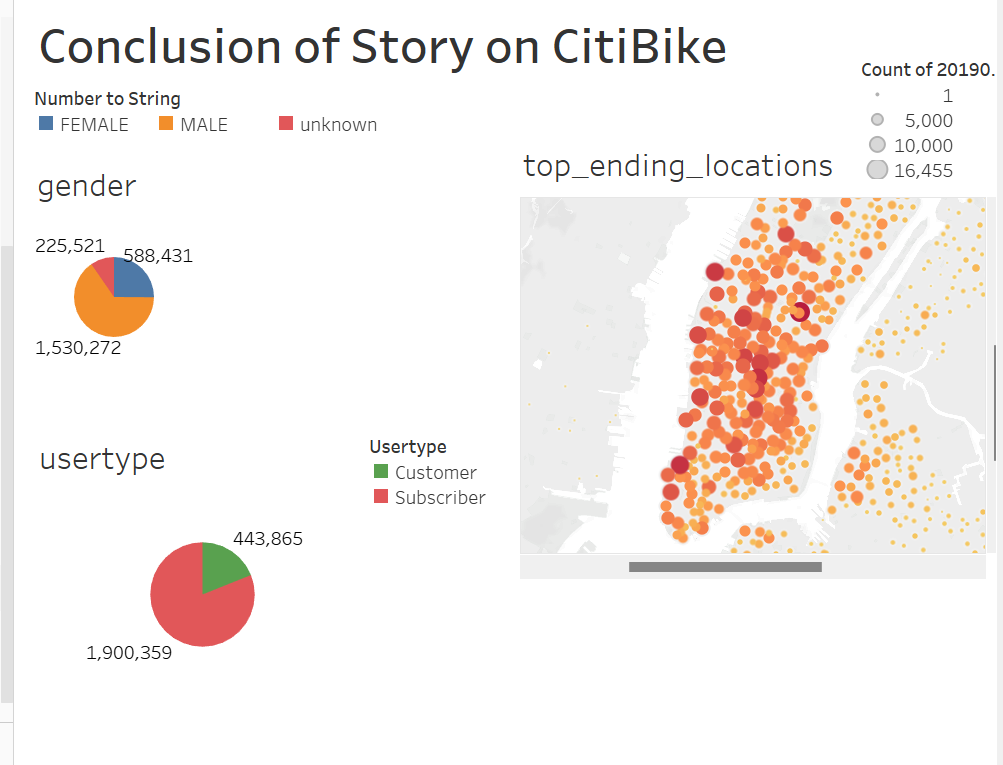

Layout of this report page (visuals, bound fields, positions):
{"tool":"tableau","page":{"name":"Dashboard 2","canvas":[1000,800],"ordinal":0},"visuals":[{"type":"title","box":[8,8,984,74]},{"type":"legend","title":"top_ending_locations","param":"[federated.0f8tygf0bq42ws1ee0vbp1ptpj2l].[__tableau_internal_object_id__].[cnt:2","box":[839,57,140,126]},{"type":"legend","title":"gender ","param":"[federated.0f8tygf0bq42ws1ee0vbp1ptpj2l].[none:Calculation_790944694519513088:nk","box":[8,82,984,75.2]},{"type":"worksheet","title":"top_ending_locations","mark":"Automatic","rows":["end station latitude"],"cols":["end station longitude"],"box":[498,141,491,439]},{"type":"worksheet","title":"gender ","mark":"Pie","box":[8,157.2,984,634.8]},{"type":"worksheet","title":"usertype","mark":"Pie","box":[14,434,333,266]},{"type":"legend","title":"usertype","param":"[federated.0f8tygf0bq42ws1ee0vbp1ptpj2l].[none:usertype:nk]","box":[347,434,140,76]}]}

Visuals, with their boxes on the page's 1000x800 design canvas (x1, y1, x2, y2). These are canvas units, not pixel positions in the 1003x765 screenshot, which may show the page scaled, cropped or inside an application window:
title: 8/8/992/82
"top_ending_locations" legend: 839/57/979/183
"gender " legend: 8/82/992/157
"top_ending_locations" worksheet: 498/141/989/580
"gender " worksheet (Pie marks): 8/157/992/792
"usertype" worksheet (Pie marks): 14/434/347/700
"usertype" legend: 347/434/487/510
